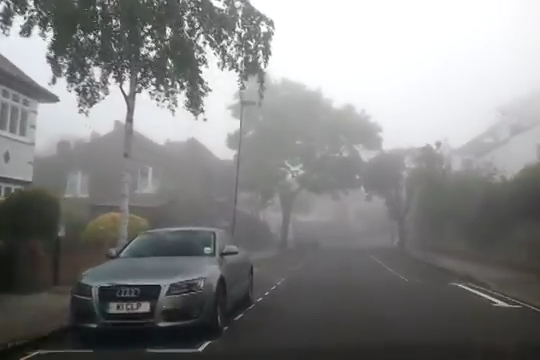car: (64, 227, 255, 340)
